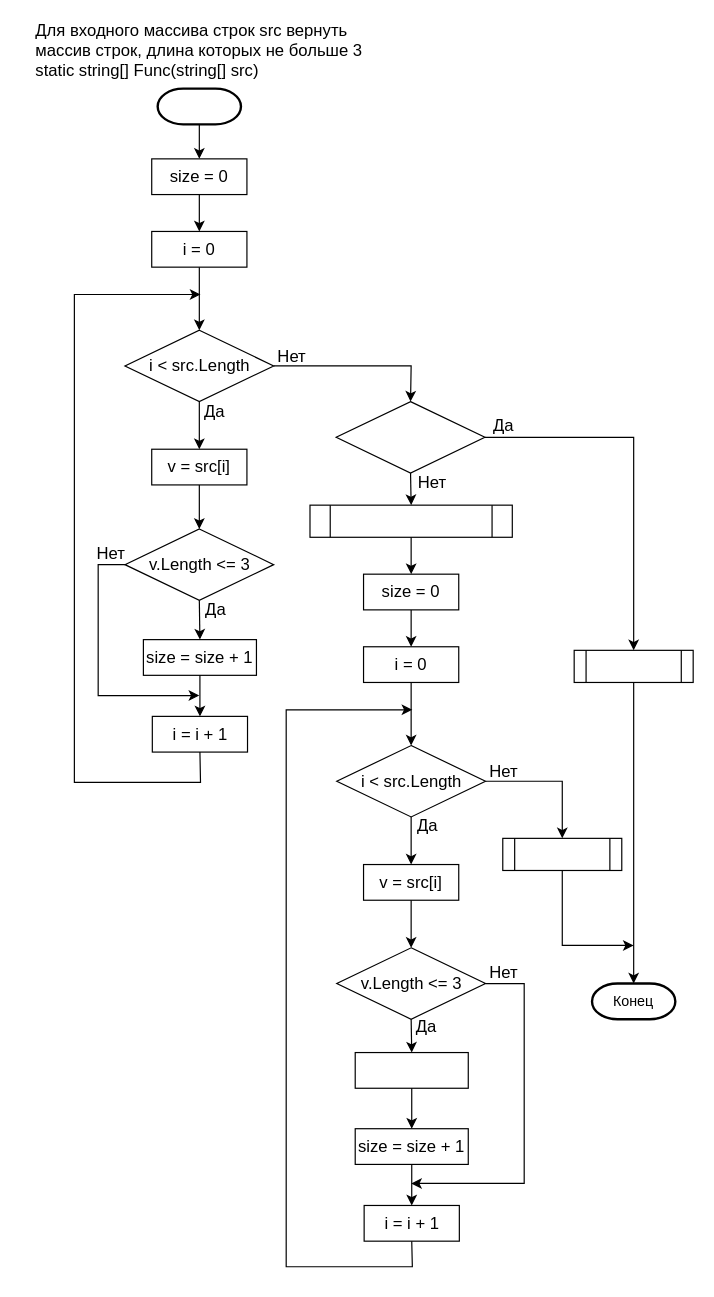
The diagram is 714 pixels wide and 1297 high, and some of its shapes have lost their labels. Here are the shapes that lost their labels. From the top down, the box of each, then its label:
(156, 87, 242, 125): Начало
(335, 400, 485, 473): size == 0
(309, 504, 512, 537): res = new string[size]
(573, 649, 693, 682): return null
(502, 837, 622, 870): return res
(354, 1051, 468, 1088): res[size] = v
